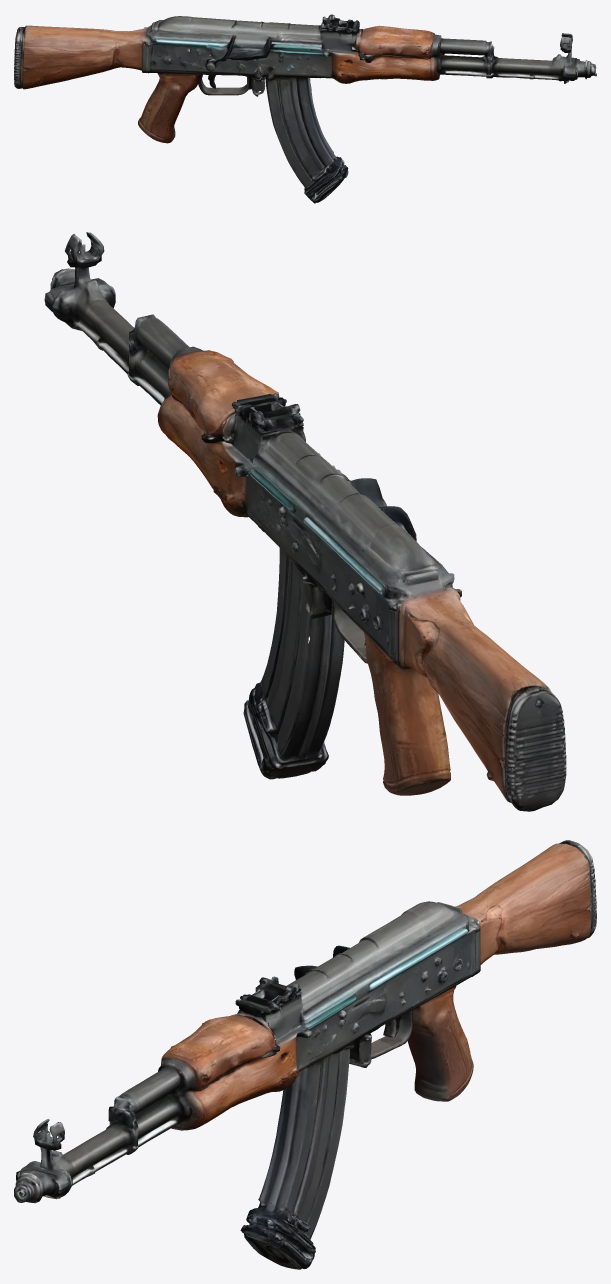
The model's file is rn_kalash.glb.
The picture shows the model from 3 angles, top to bottom: view 1: azimuth 30°, elevation 25°; view 2: azimuth 150°, elevation 25°; view 3: azimuth 270°, elevation 25°; orthographic projection. The views are drawn at different scales.
Visible parts, largest first — view 1: tripo_node_8a8f9ef8-306f-469d-ab38-9b81d80ed2f0; view 2: tripo_node_8a8f9ef8-306f-469d-ab38-9b81d80ed2f0; view 3: tripo_node_8a8f9ef8-306f-469d-ab38-9b81d80ed2f0.
Part boxes in pixels (<box>): tripo_node_8a8f9ef8-306f-469d-ab38-9b81d80ed2f0: <box>14,14,596,203</box>; tripo_node_8a8f9ef8-306f-469d-ab38-9b81d80ed2f0: <box>44,232,566,811</box>; tripo_node_8a8f9ef8-306f-469d-ab38-9b81d80ed2f0: <box>14,840,596,1269</box>.
Size of the model in its own units: 0.9783 by 0.4003 by 0.7229.
1 material, 1 textured.
